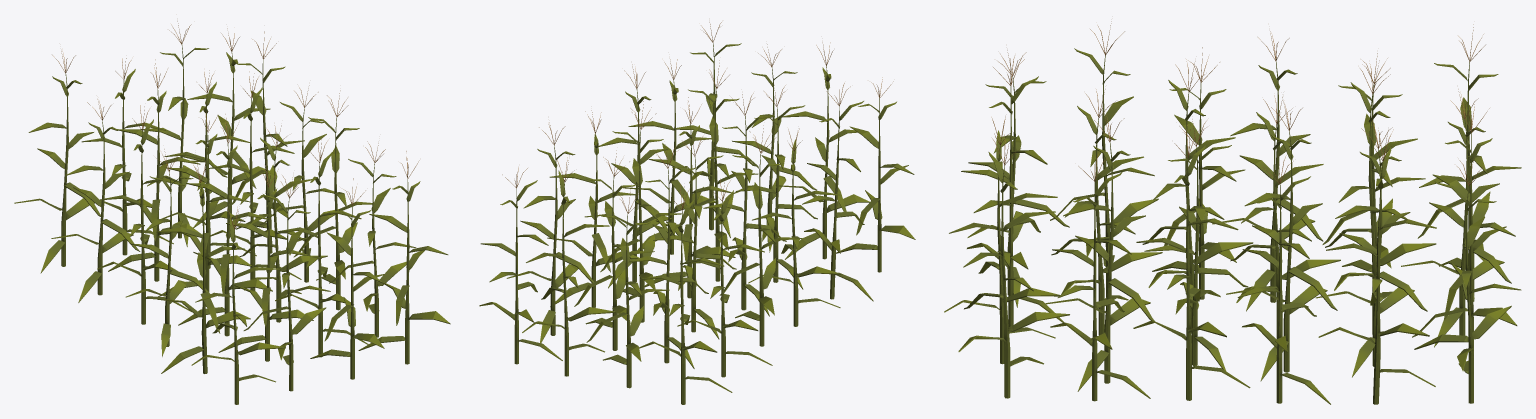
File: cornstalks.glb
3 views of the same model, side by side, from view 1: azimuth 30°, elevation 25°; view 2: azimuth 150°, elevation 25°; view 3: azimuth 270°, elevation 25° (orthographic). The views are drawn at different scales.
Visible parts, largest first — view 1: node-0; view 2: node-0; view 3: node-0.
Boxes of the visible parts, x1,y1,x2,y2 form: node-0: [14, 21, 450, 404]; node-0: [479, 22, 915, 404]; node-0: [944, 21, 1521, 404].
Bounding box in the file's own units: 15.73 × 13.52 × 24.11.
1 material, 1 textured.
